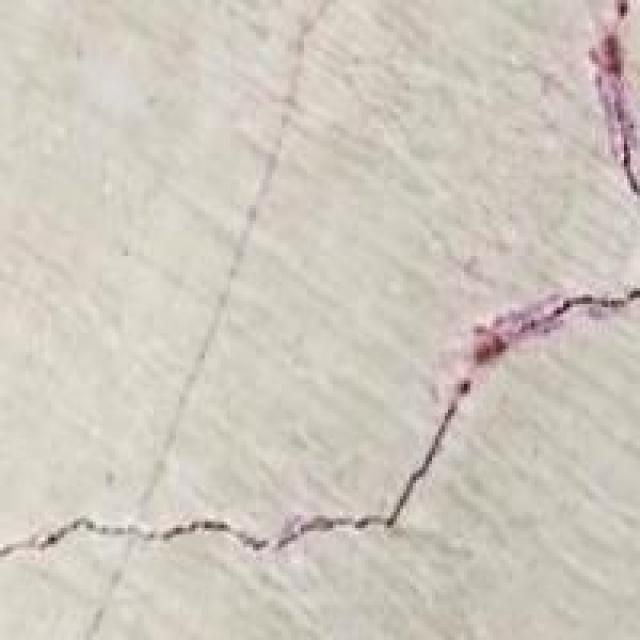Crack: (3, 26, 637, 614)
